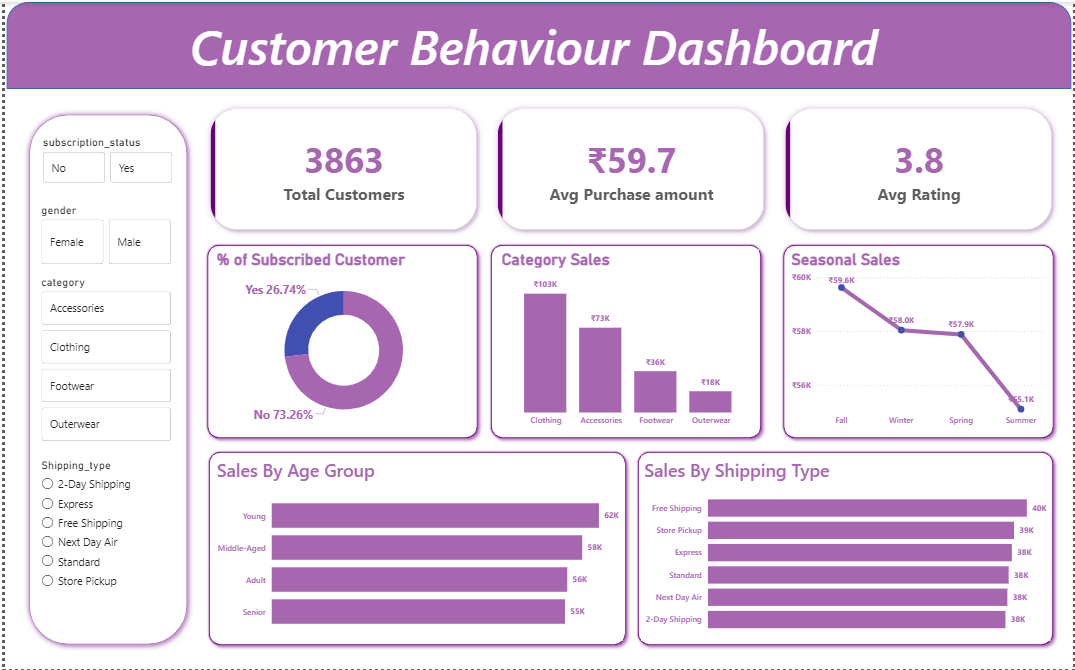

This screenshot's page, from the dashboard's own definition file:
{"tool":"powerbi","page":{"name":"Page 1","canvas":[1600,1000],"ordinal":0},"visuals":[{"type":"cardVisual","fields":{"Data":["customer_behaviour_project customers.count_cust","customer_behaviour_project customers.avg_purchase_amt","customer_behaviour_project customers.avg_rating"]},"box":[278.7,129.9,1320.5,240.9],"z":0},{"type":"shape","box":[2.2,0,1596.7,130.4],"z":1000},{"type":"textbox","box":[152.9,11.2,1279.6,148.4],"z":2000},{"type":"shape","box":[295.3,354.3,422.8,307.1],"z":3000},{"type":"donutChart","title":"% of Subscribed Customer","fields":{"Category":["customer_behaviour_project customers.subscription_status"],"Y":["CountNonNull(customer_behaviour_project customers.customer_id)"]},"box":[311.8,370.9,389.8,274],"z":4000},{"type":"shape","box":[1157.5,354.3,422.8,307.1],"z":5000},{"type":"shape","box":[720.5,354.3,422.8,307.1],"z":6000},{"type":"clusteredColumnChart","title":"Category Sales","fields":{"Category":["customer_behaviour_project customers.category"],"Y":["Sum(customer_behaviour_project customers.purchase_amount_(usd))"]},"box":[739.4,370.9,389.8,274],"z":7000},{"type":"lineChart","title":"Seasonal Sales","fields":{"Category":["customer_behaviour_project customers.season"],"Y":["Sum(customer_behaviour_project customers.purchase_amount_(usd))"]},"box":[1174,370.9,389.8,274],"z":8000},{"type":"shape","box":[26,160.6,255.1,812.6],"z":9000},{"type":"advancedSlicerVisual","fields":{"Values":["customer_behaviour_project customers.subscription_status"]},"box":[52,200.8,205.5,75.6],"z":10000},{"type":"advancedSlicerVisual","fields":{"Values":["customer_behaviour_project customers.gender"]},"box":[49.5,301.4,204.7,96.7],"z":11000},{"type":"advancedSlicerVisual","fields":{"Values":["customer_behaviour_project customers.category"]},"box":[49.5,409.3,204.7,256.4],"z":12000},{"type":"listSlicer","fields":{"Values":["customer_behaviour_project customers.shipping_type"]},"box":[49.6,682.7,212.6,264.6],"z":13000},{"type":"shape","box":[297.6,666.1,642.5,307.1],"z":14000},{"type":"barChart","title":"Sales By Age Group","fields":{"Y":["Sum(customer_behaviour_project customers.purchase_amount_(usd))"],"Category":["customer_behaviour_project customers.age_group"]},"box":[311.8,682.7,614.2,274],"z":15000},{"type":"shape","box":[940.2,666.1,640.2,307.1],"z":16000},{"type":"barChart","title":"Sales By Shipping Type","fields":{"Y":["Sum(customer_behaviour_project customers.purchase_amount_(usd))"],"Category":["customer_behaviour_project customers.shipping_type"]},"box":[954.3,682.7,614.2,274],"z":17000}]}

Visuals, with their boxes in screenshot pixels (x1, y1, x2, y2), scaled from the page's 1600x1000 canvas onto the 1075x670 screenshot:
cardVisual - customer_behaviour_project customers.count_cust x customer_behaviour_project customers.avg_purchase_amt: (187, 87, 1074, 248)
shape: (1, 0, 1074, 87)
textbox: (103, 8, 962, 107)
shape: (198, 237, 482, 443)
"% of Subscribed Customer" donutChart: (209, 249, 471, 432)
shape: (778, 237, 1062, 443)
shape: (484, 237, 768, 443)
"Category Sales" clusteredColumnChart: (497, 249, 759, 432)
"Seasonal Sales" lineChart: (789, 249, 1051, 432)
shape: (17, 108, 189, 652)
advancedSlicerVisual - customer_behaviour_project customers.subscription_status: (35, 135, 173, 185)
advancedSlicerVisual - customer_behaviour_project customers.gender: (33, 202, 171, 267)
advancedSlicerVisual - customer_behaviour_project customers.category: (33, 274, 171, 446)
listSlicer - customer_behaviour_project customers.shipping_type: (33, 457, 176, 635)
shape: (200, 446, 632, 652)
"Sales By Age Group" barChart: (209, 457, 622, 641)
shape: (632, 446, 1062, 652)
"Sales By Shipping Type" barChart: (641, 457, 1054, 641)
